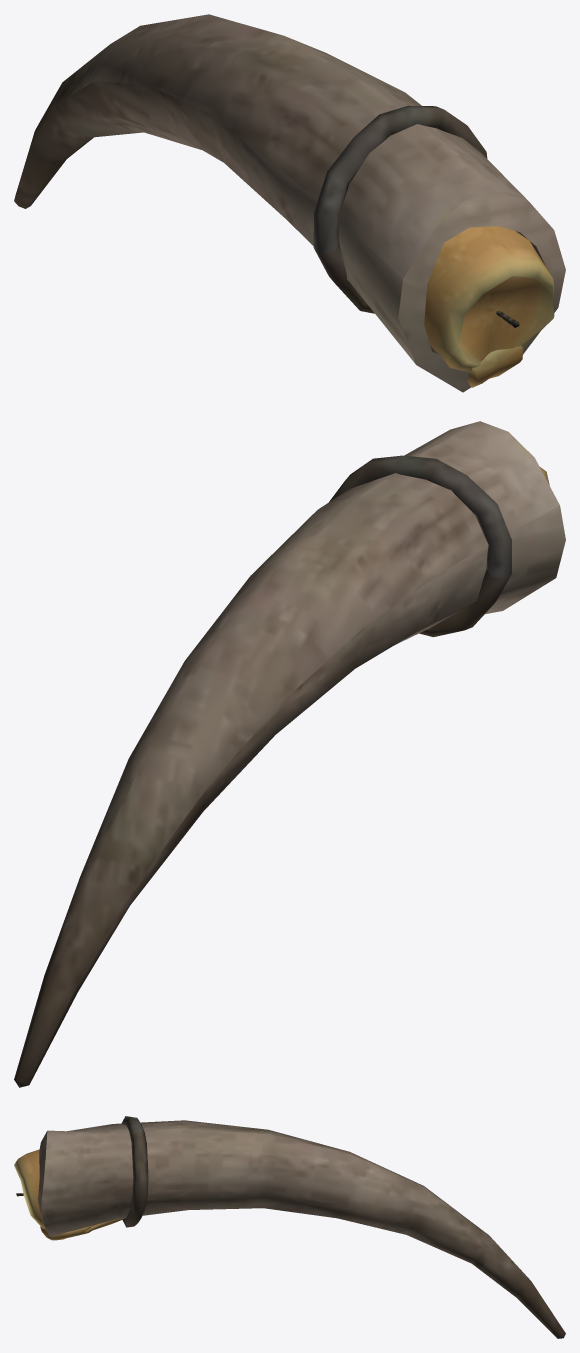
File: VIK_PRO_Candle_Horn_Wall_Small_01A_LOD0-transformed.glb
3 views of the same model, one above another, from view 1: azimuth 30°, elevation 25°; view 2: azimuth 150°, elevation 25°; view 3: azimuth 270°, elevation 25° (orthographic). The views are drawn at different scales.
Visible parts, largest first — view 1: VIK_PRO_Candle_Horn_Wall_Small_01A_LOD0; view 2: VIK_PRO_Candle_Horn_Wall_Small_01A_LOD0; view 3: VIK_PRO_Candle_Horn_Wall_Small_01A_LOD0.
Part boxes in pixels (<box>): VIK_PRO_Candle_Horn_Wall_Small_01A_LOD0: <box>14,14,565,392</box>; VIK_PRO_Candle_Horn_Wall_Small_01A_LOD0: <box>14,421,565,1087</box>; VIK_PRO_Candle_Horn_Wall_Small_01A_LOD0: <box>14,1116,565,1338</box>.
Size of the model in its own units: 0.00163 by 0.00333 by 0.00793.
Materials: 3 (3 with a texture image).
